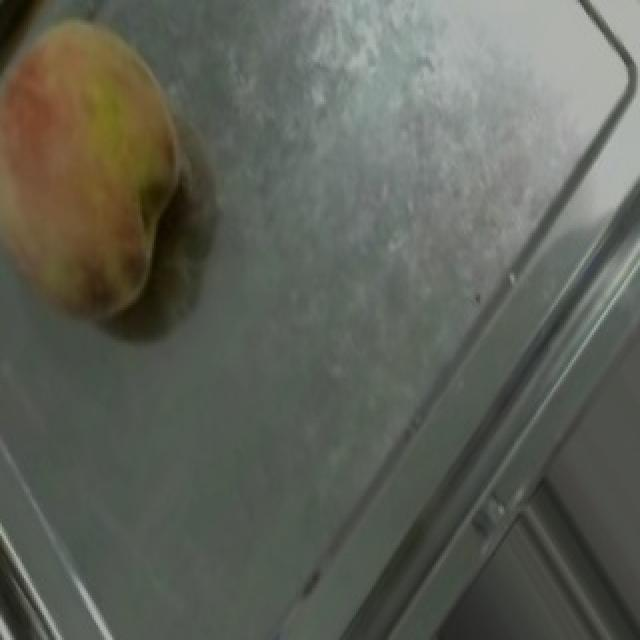Fruit: (2, 0, 226, 357)
